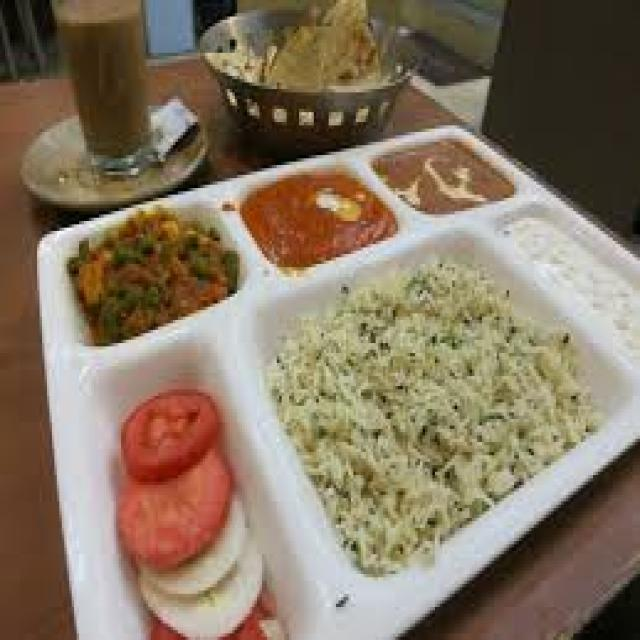papad: (189, 0, 383, 146)
rice: (195, 0, 382, 143)
sambar-rasam: (237, 146, 393, 284)
sweet: (123, 398, 225, 488)
veg-fry: (320, 223, 599, 506), (61, 189, 237, 352)
